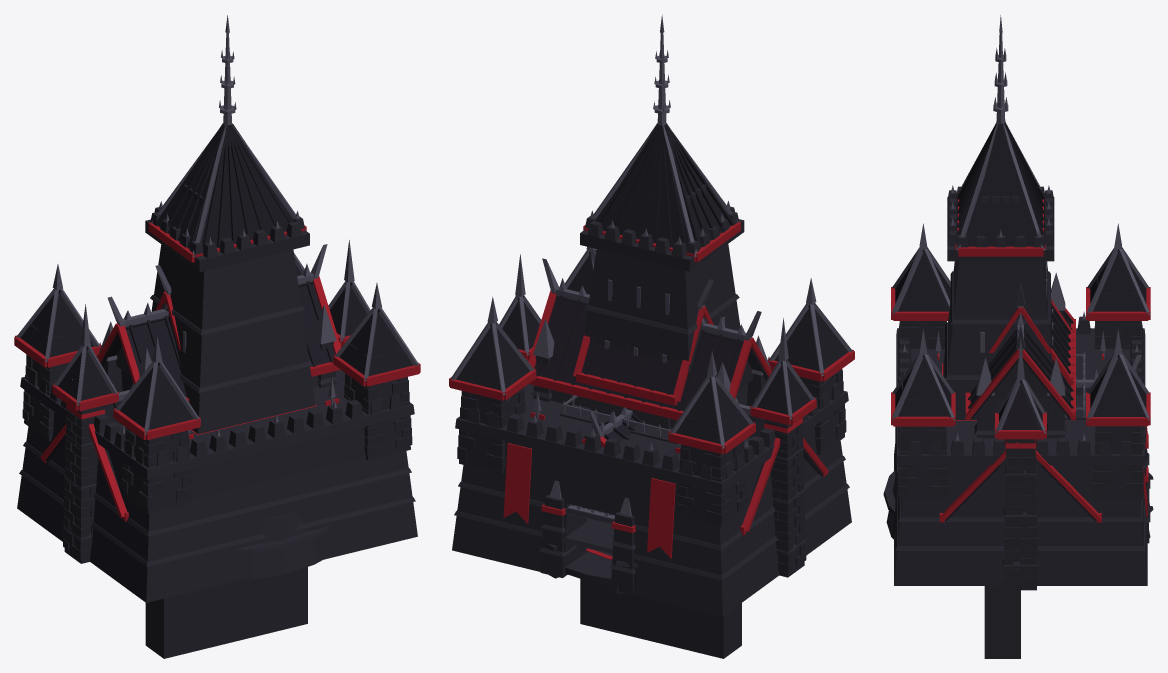
File: Nightfall_Buildings.fbx
The picture shows the model from 3 angles, left to right: view 1: azimuth 30°, elevation 25°; view 2: azimuth 150°, elevation 25°; view 3: azimuth 270°, elevation 25°; orthographic projection.
Parts seen in each view (by area): view 1: Nightfall_Buildings_Keep__Stone, Nightfall_Buildings_Keep__Tile, Nightfall_Buildings_UpperGate__Stone, Nightfall_Buildings_Keep__Iron, Nightfall_Buildings_Armory__Stone, Nightfall_Buildings_Gatehouse__Tile, Nightfall_Buildings_Arena__Stone, Nightfall_Buildings_Keep__Crimson, Nightfall_Buildings_Armory__Tile, Nightfall_Buildings_Armory__Crimson, Nightfall_Buildings_Armory__Iron, Nightfall_Buildings_Gatehouse__Iron (+2 smaller); view 2: Nightfall_Buildings_Keep__Stone, Nightfall_Buildings_Keep__Tile, Nightfall_Buildings_UpperGate__Stone, Nightfall_Buildings_Keep__Crimson, Nightfall_Buildings_Keep__Iron, Nightfall_Buildings_Gatehouse__Tile, Nightfall_Buildings_Armory__Stone, Nightfall_Buildings_Arena__Stone, Nightfall_Buildings_Armory__Tile, Nightfall_Buildings_Residence__Tile, Nightfall_Buildings_Gatehouse__Crimson, Nightfall_Buildings_Armory__Iron (+8 smaller); view 3: Nightfall_Buildings_Keep__Stone, Nightfall_Buildings_Keep__Tile, Nightfall_Buildings_Keep__Iron, Nightfall_Buildings_Armory__Stone, Nightfall_Buildings_Keep__Crimson, Nightfall_Buildings_UpperGate__Stone, Nightfall_Buildings_Gatehouse__Stone, Nightfall_Buildings_Armory__Crimson, Nightfall_Buildings_Gatehouse__Tile, Nightfall_Buildings_Gatehouse__Crimson, Nightfall_Buildings_Armory__Tile, Nightfall_Buildings_Armory__Iron (+4 smaller).
Boxes of the visible parts, box(x1,y1,x2,y2) form: Nightfall_Buildings_Keep__Stone: box(17, 185, 417, 602); Nightfall_Buildings_Keep__Tile: box(20, 123, 413, 429); Nightfall_Buildings_UpperGate__Stone: box(145, 567, 307, 658); Nightfall_Buildings_Keep__Iron: box(16, 15, 420, 436); Nightfall_Buildings_Armory__Stone: box(62, 346, 342, 563); Nightfall_Buildings_Gatehouse__Tile: box(100, 281, 335, 397); Nightfall_Buildings_Arena__Stone: box(231, 512, 329, 580); Nightfall_Buildings_Keep__Crimson: box(14, 222, 420, 440); Nightfall_Buildings_Armory__Tile: box(45, 282, 367, 518); Nightfall_Buildings_Armory__Crimson: box(40, 333, 350, 521); Nightfall_Buildings_Armory__Iron: box(54, 240, 370, 405); Nightfall_Buildings_Gatehouse__Iron: box(98, 244, 336, 377); Nightfall_Buildings_Keep__Stone: box(452, 184, 851, 616); Nightfall_Buildings_Keep__Tile: box(456, 123, 848, 443); Nightfall_Buildings_UpperGate__Stone: box(580, 579, 741, 658); Nightfall_Buildings_Keep__Crimson: box(449, 221, 854, 558); Nightfall_Buildings_Keep__Iron: box(449, 15, 852, 515); Nightfall_Buildings_Gatehouse__Tile: box(534, 295, 768, 411); Nightfall_Buildings_Armory__Stone: box(527, 360, 806, 577); Nightfall_Buildings_Arena__Stone: box(539, 495, 637, 595); Nightfall_Buildings_Armory__Tile: box(502, 296, 823, 531); Nightfall_Buildings_Residence__Tile: box(581, 311, 703, 394); Nightfall_Buildings_Gatehouse__Crimson: box(528, 290, 771, 420); Nightfall_Buildings_Armory__Iron: box(499, 254, 814, 437); Nightfall_Buildings_Keep__Stone: box(894, 186, 1147, 585); Nightfall_Buildings_Keep__Tile: box(895, 121, 1146, 416); Nightfall_Buildings_Keep__Iron: box(891, 15, 1150, 440); Nightfall_Buildings_Armory__Stone: box(1003, 439, 1038, 590); Nightfall_Buildings_Keep__Crimson: box(891, 199, 1150, 516); Nightfall_Buildings_UpperGate__Stone: box(984, 586, 1020, 658); Nightfall_Buildings_Gatehouse__Stone: box(974, 310, 1066, 438); Nightfall_Buildings_Armory__Crimson: box(939, 412, 1101, 522); Nightfall_Buildings_Gatehouse__Tile: box(968, 310, 1073, 418); Nightfall_Buildings_Gatehouse__Crimson: box(965, 308, 1075, 420); Nightfall_Buildings_Armory__Tile: box(945, 379, 1096, 521); Nightfall_Buildings_Armory__Iron: box(995, 337, 1141, 433).
Size of the model in its own units: 38.35 by 74.3 by 29.78.
